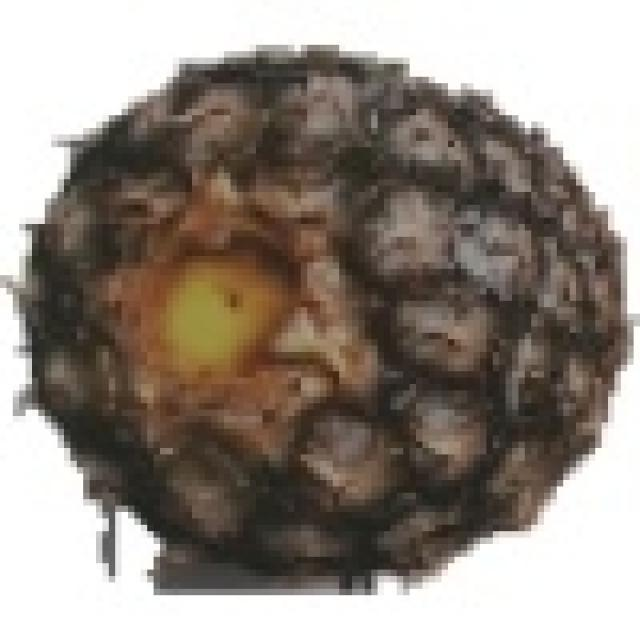pineapple: (38, 38, 634, 576)
